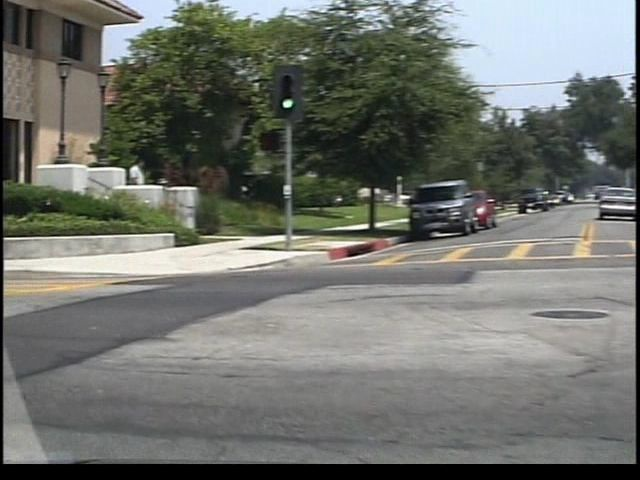person: (117, 152, 139, 218)
